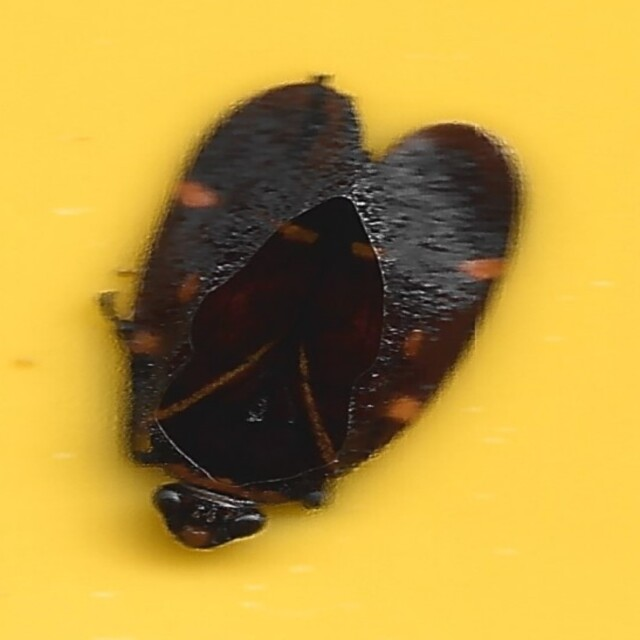Hemiptera: (117, 87, 523, 553)
